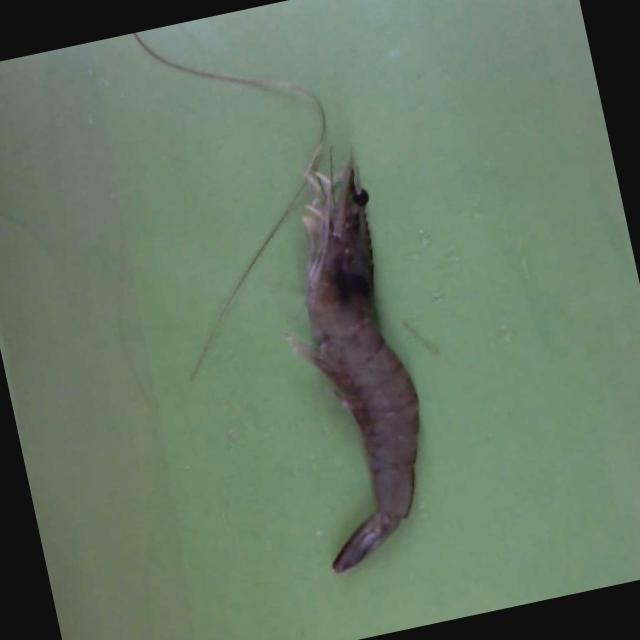shrimp: (322, 155, 418, 573)
